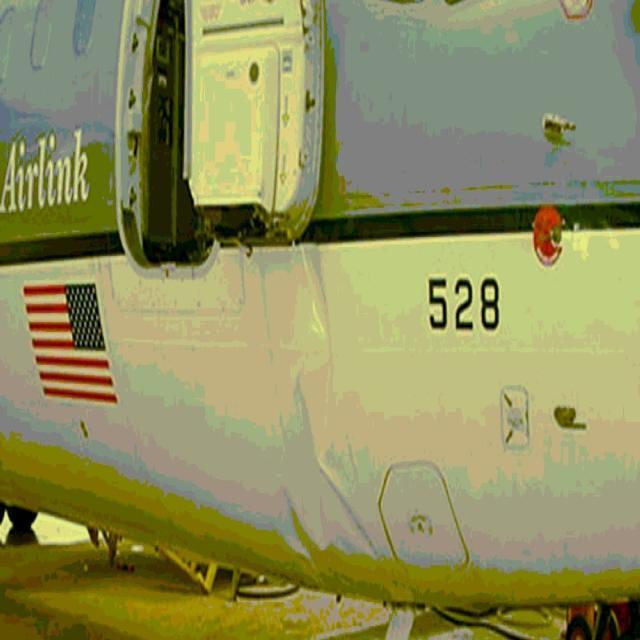dent: (281, 462, 377, 579)
